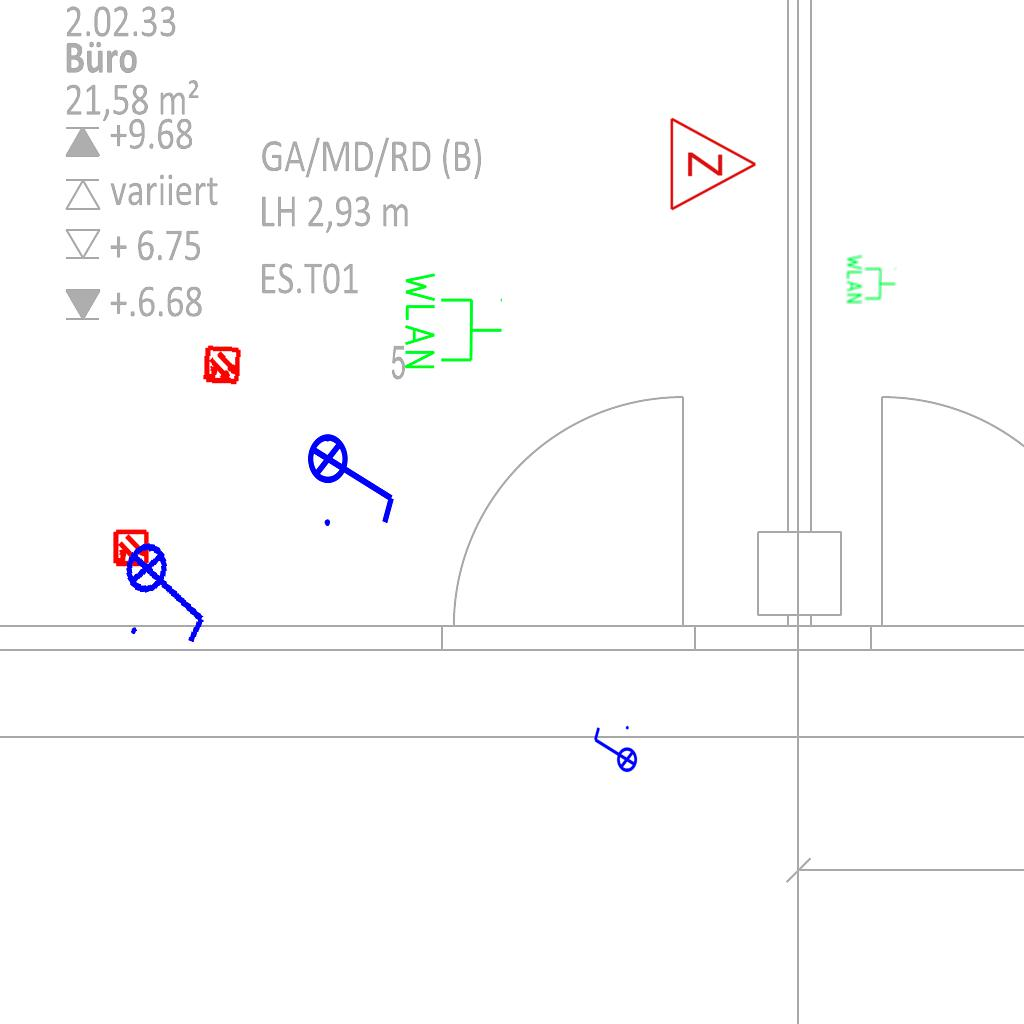Ausschalter_beleuchtet: (111, 525, 227, 655), (306, 420, 402, 532), (590, 723, 638, 779)
OT_Multisensormelder_(Kombination_RMO_WMD): (192, 336, 252, 396), (103, 521, 159, 577)
WLAN: (401, 268, 505, 373), (845, 253, 897, 305)
Zimmersignalleuchte: (663, 114, 763, 212)
